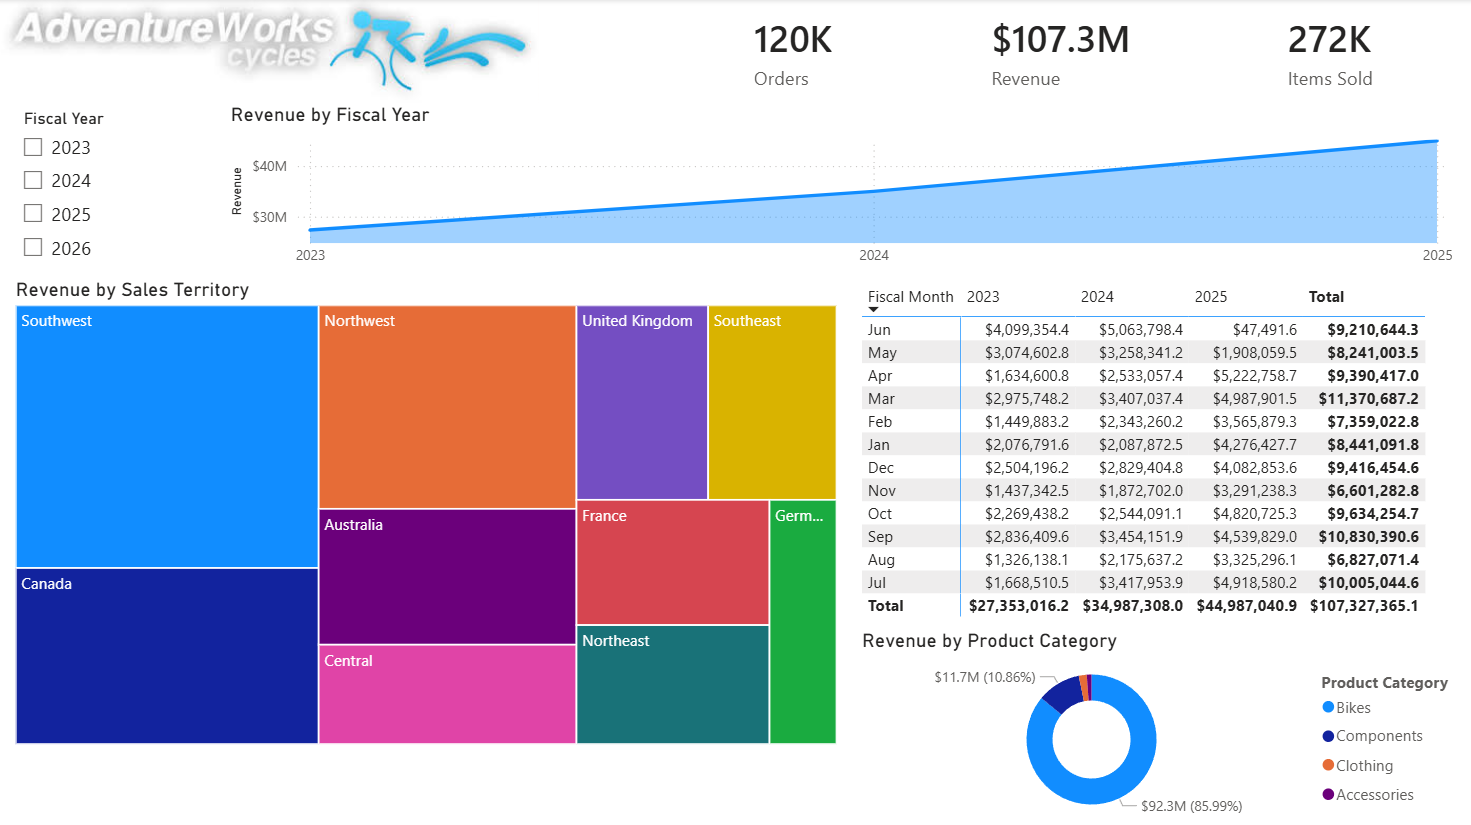

Layout of this report page (visuals, bound fields, positions):
{"tool":"powerbi","page":{"name":"Sales Report","canvas":[1280,720],"ordinal":0},"visuals":[{"type":"areaChart","fields":{"Y":["Order Items.Revenue1"],"Category":["Calendar.Fiscal Year Hierarchy.Fiscal Year","Calendar.Fiscal Year Hierarchy.Fiscal Month","Calendar.Fiscal Year Hierarchy.Day of Week"]},"box":[197.1,90.4,1071.4,151.1],"z":1000},{"type":"pivotTable","fields":{"Rows":["Calendar.Fiscal Month"],"Columns":["Calendar.Fiscal Year"],"Values":["Order Items.Revenue"]},"box":[745.4,241.9,534.9,304.7],"z":2000},{"type":"treemap","title":"Revenue by Sales Territory","fields":{"Values":["Order Items.Revenue"],"Group":["Orders.Value.Territory"]},"box":[9.3,241.9,723.3,410.5],"z":3000},{"type":"image","box":[0,0,470,90.5],"z":4000},{"type":"cardVisual","fields":{"Data":["Order Items.Orders"]},"box":[629.8,0,133.4,90.4],"z":5000},{"type":"cardVisual","fields":{"Data":["Order Items.Revenue after Discount"]},"box":[836.6,0,193.9,90.5],"z":6000},{"type":"cardVisual","fields":{"Data":["Order Items.Items Sold"]},"box":[1093.7,0,133.1,90.6],"z":7000},{"type":"donutChart","fields":{"Y":["Order Items.Revenue after Discount"],"Category":["Products.Product Category"]},"box":[745.4,547.7,534.9,173.3],"z":8000},{"type":"slicer","fields":{"Values":["Calendar.Fiscal Year"]},"box":[9,90,188,151],"z":9000}]}

Visuals, with their boxes in screenshot pixels (x1, y1, x2, y2), scaled from the page's 1280x720 canvas onto the 1471x825 screenshot:
areaChart - Order Items.Revenue1 x Calendar.Fiscal Year Hierarchy.Fiscal Year: 227/104/1458/277
pivotTable - Calendar.Fiscal Month x Calendar.Fiscal Year: 857/277/1470/626
"Revenue by Sales Territory" treemap: 11/277/842/748
image: 0/0/540/104
cardVisual - Order Items.Orders: 724/0/877/104
cardVisual - Order Items.Revenue after Discount: 961/0/1184/104
cardVisual - Order Items.Items Sold: 1257/0/1410/104
donutChart - Order Items.Revenue after Discount x Products.Product Category: 857/628/1470/824
slicer - Calendar.Fiscal Year: 10/103/226/276
